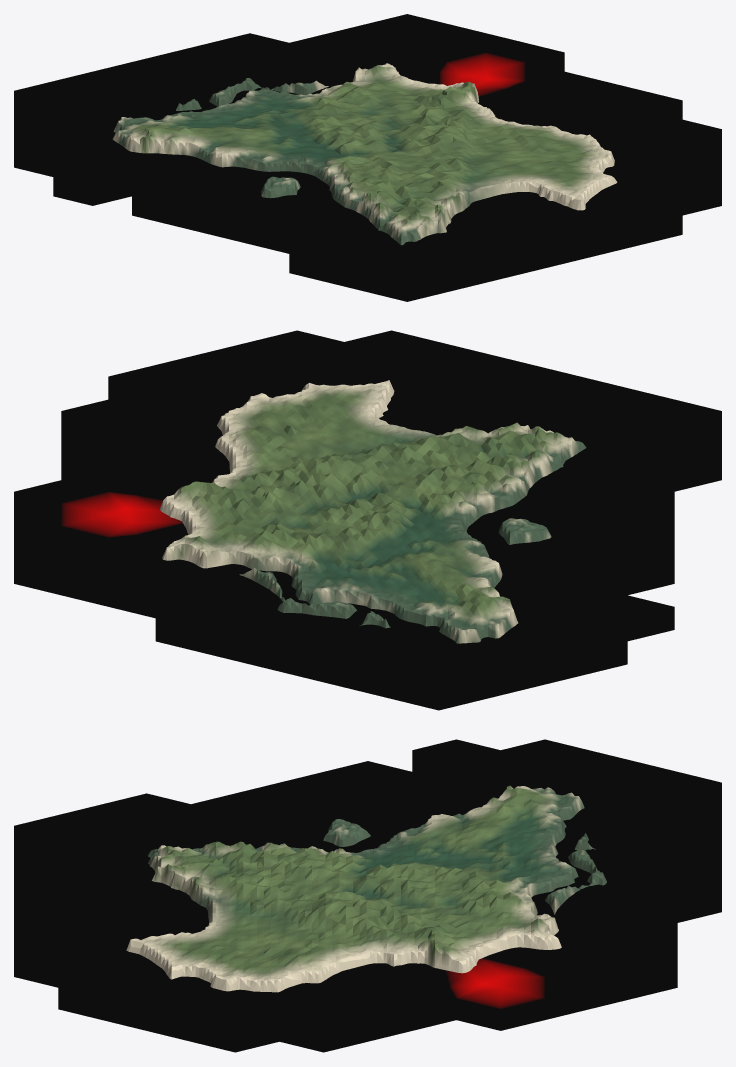
Rendered from landmark-boipeba-balanced.v1.glb.
The picture shows the model from 3 angles, top to bottom: view 1: azimuth 30°, elevation 25°; view 2: azimuth 150°, elevation 25°; view 3: azimuth 270°, elevation 25°; orthographic projection. The views are drawn at different scales.
Parts seen in each view (by area): view 1: surf, island; view 2: surf, island; view 3: surf, island.
Boxes of the visible parts, x1,y1,x2,y2 form: surf: [14, 14, 721, 301]; island: [112, 63, 617, 245]; surf: [14, 330, 721, 710]; island: [160, 380, 586, 643]; surf: [14, 739, 721, 1052]; island: [126, 785, 606, 992].
Size of the model in its own units: 40.6 by 4.6 by 38.8.
